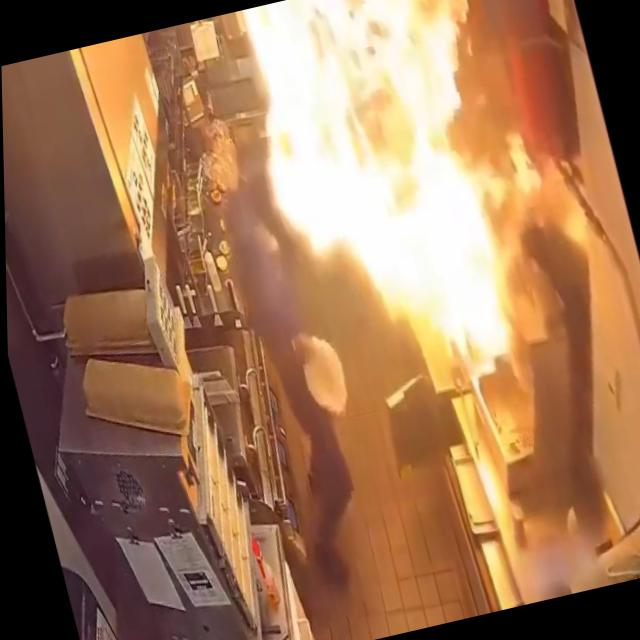fire: (223, 0, 595, 423)
